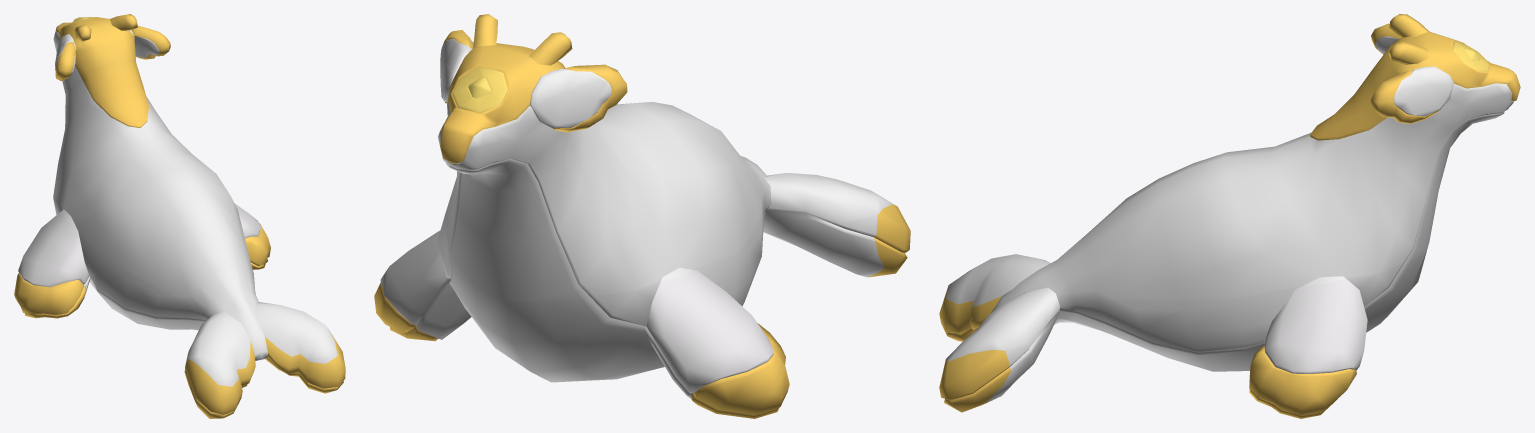
The model's file is CharSkyKid_Prop_FortunePony.glb.
The picture shows the model from 3 angles, left to right: view 1: azimuth 30°, elevation 25°; view 2: azimuth 150°, elevation 25°; view 3: azimuth 270°, elevation 25°; orthographic projection. The views are drawn at different scales.
Parts seen in each view (by area): view 1: CharSkyKid_Prop_FortunePony; view 2: CharSkyKid_Prop_FortunePony; view 3: CharSkyKid_Prop_FortunePony.
Boxes of the visible parts, x1=… form: CharSkyKid_Prop_FortunePony: x1=14, y1=14, x2=345, y2=418; CharSkyKid_Prop_FortunePony: x1=374, y1=14, x2=910, y2=418; CharSkyKid_Prop_FortunePony: x1=939, y1=14, x2=1520, y2=418.
Size of the model in its own units: 13.92 by 14.13 by 21.57.
1 material, 1 textured.
